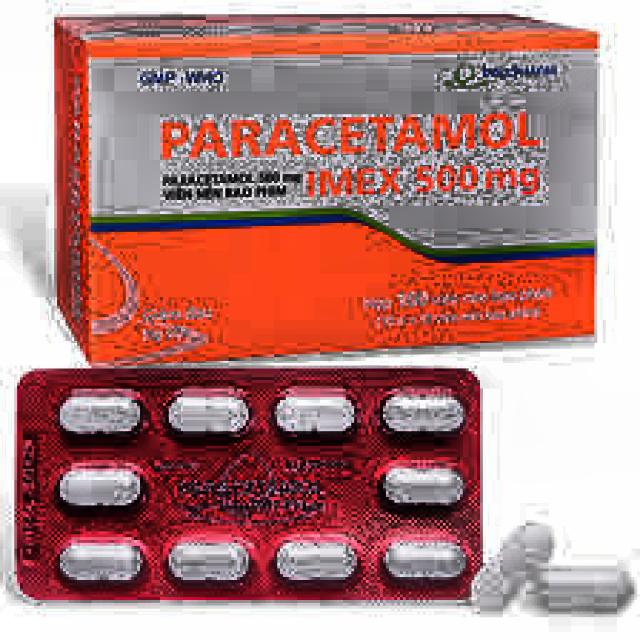Paracetamol: (155, 99, 552, 207)
